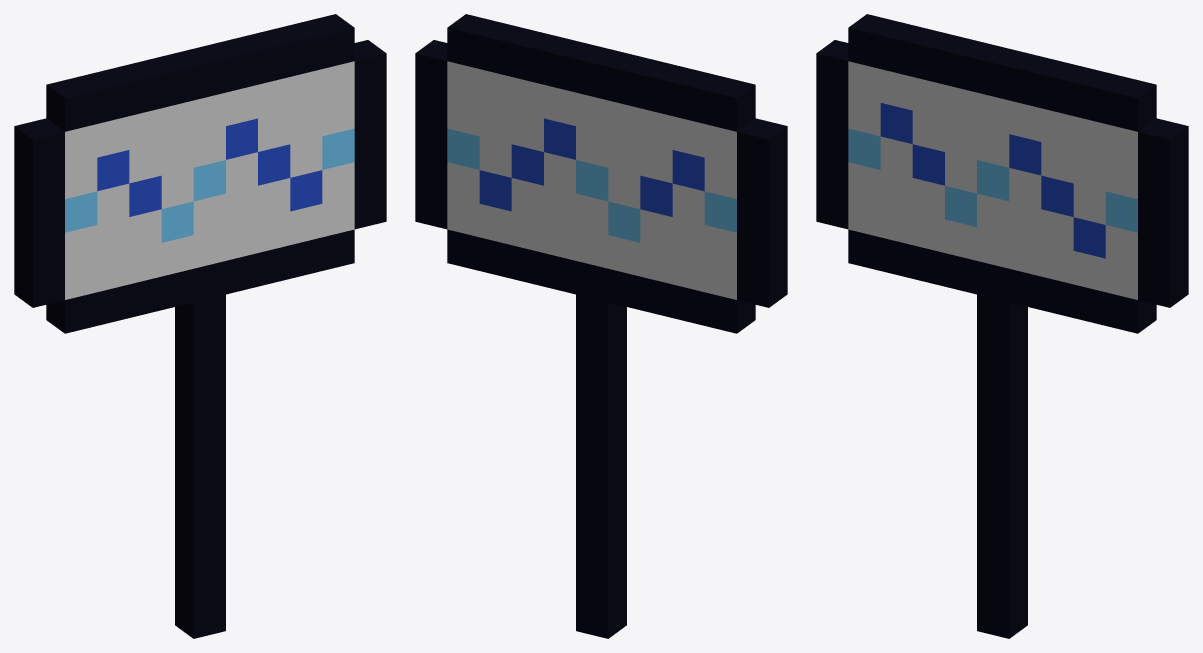
The picture shows the model from 3 angles, left to right: view 1: azimuth 30°, elevation 25°; view 2: azimuth 150°, elevation 25°; view 3: azimuth 330°, elevation 25°; orthographic projection.
Visible parts, largest first — view 1: 75; view 2: 75; view 3: 75.
Part boxes in pixels (x1,y1,x2,y2): 75: [14, 14, 386, 638]; 75: [415, 14, 787, 638]; 75: [816, 14, 1188, 638].
Bounding box in the file's own units: 0.4331 × 0.6693 × 0.0394.
1 material, 1 textured.
